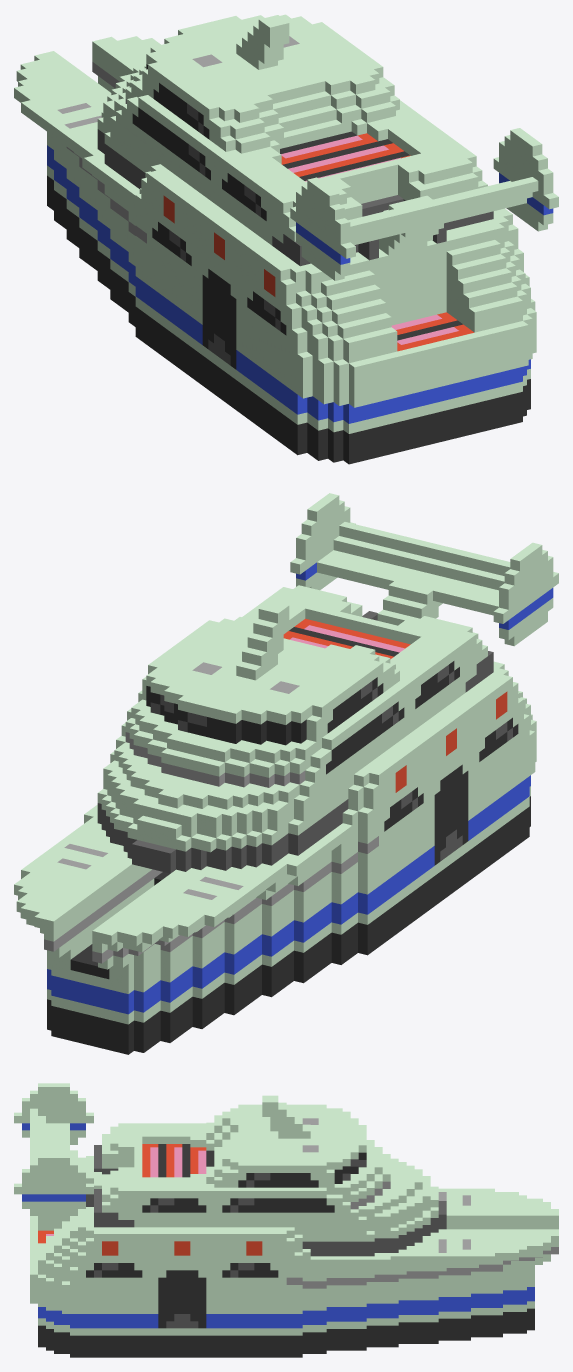
Rendered from Boat.fbx.
The picture shows the model from 3 angles, top to bottom: view 1: azimuth 30°, elevation 25°; view 2: azimuth 150°, elevation 25°; view 3: azimuth 270°, elevation 25°; orthographic projection. The views are drawn at different scales.
Parts seen in each view (by area): view 1: Boat; view 2: Boat; view 3: Boat.
Boxes of the visible parts, x1,y1,x2,y2 form: Boat: (14,14,558,464); Boat: (14,493,558,1054); Boat: (14,1083,558,1357).
Bounding box in the file's own units: 3.6 × 4.5 × 10.2.
Materials: 1 (1 with a texture image).
